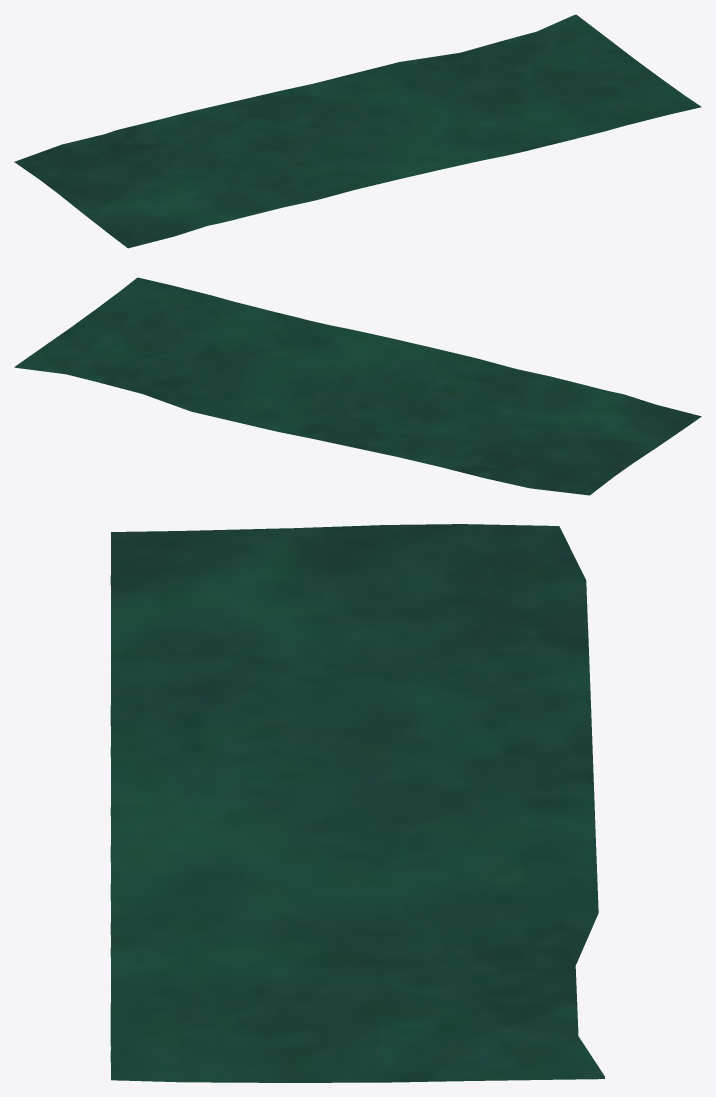
3 views of the same model, one above another, from view 1: azimuth 30°, elevation 25°; view 2: azimuth 150°, elevation 25°; view 3: azimuth 270°, elevation 25° (orthographic). The views are drawn at different scales.
Size of the model in its own units: 52.22 by 0.5551 by 19.81.
1 material, 1 textured.
